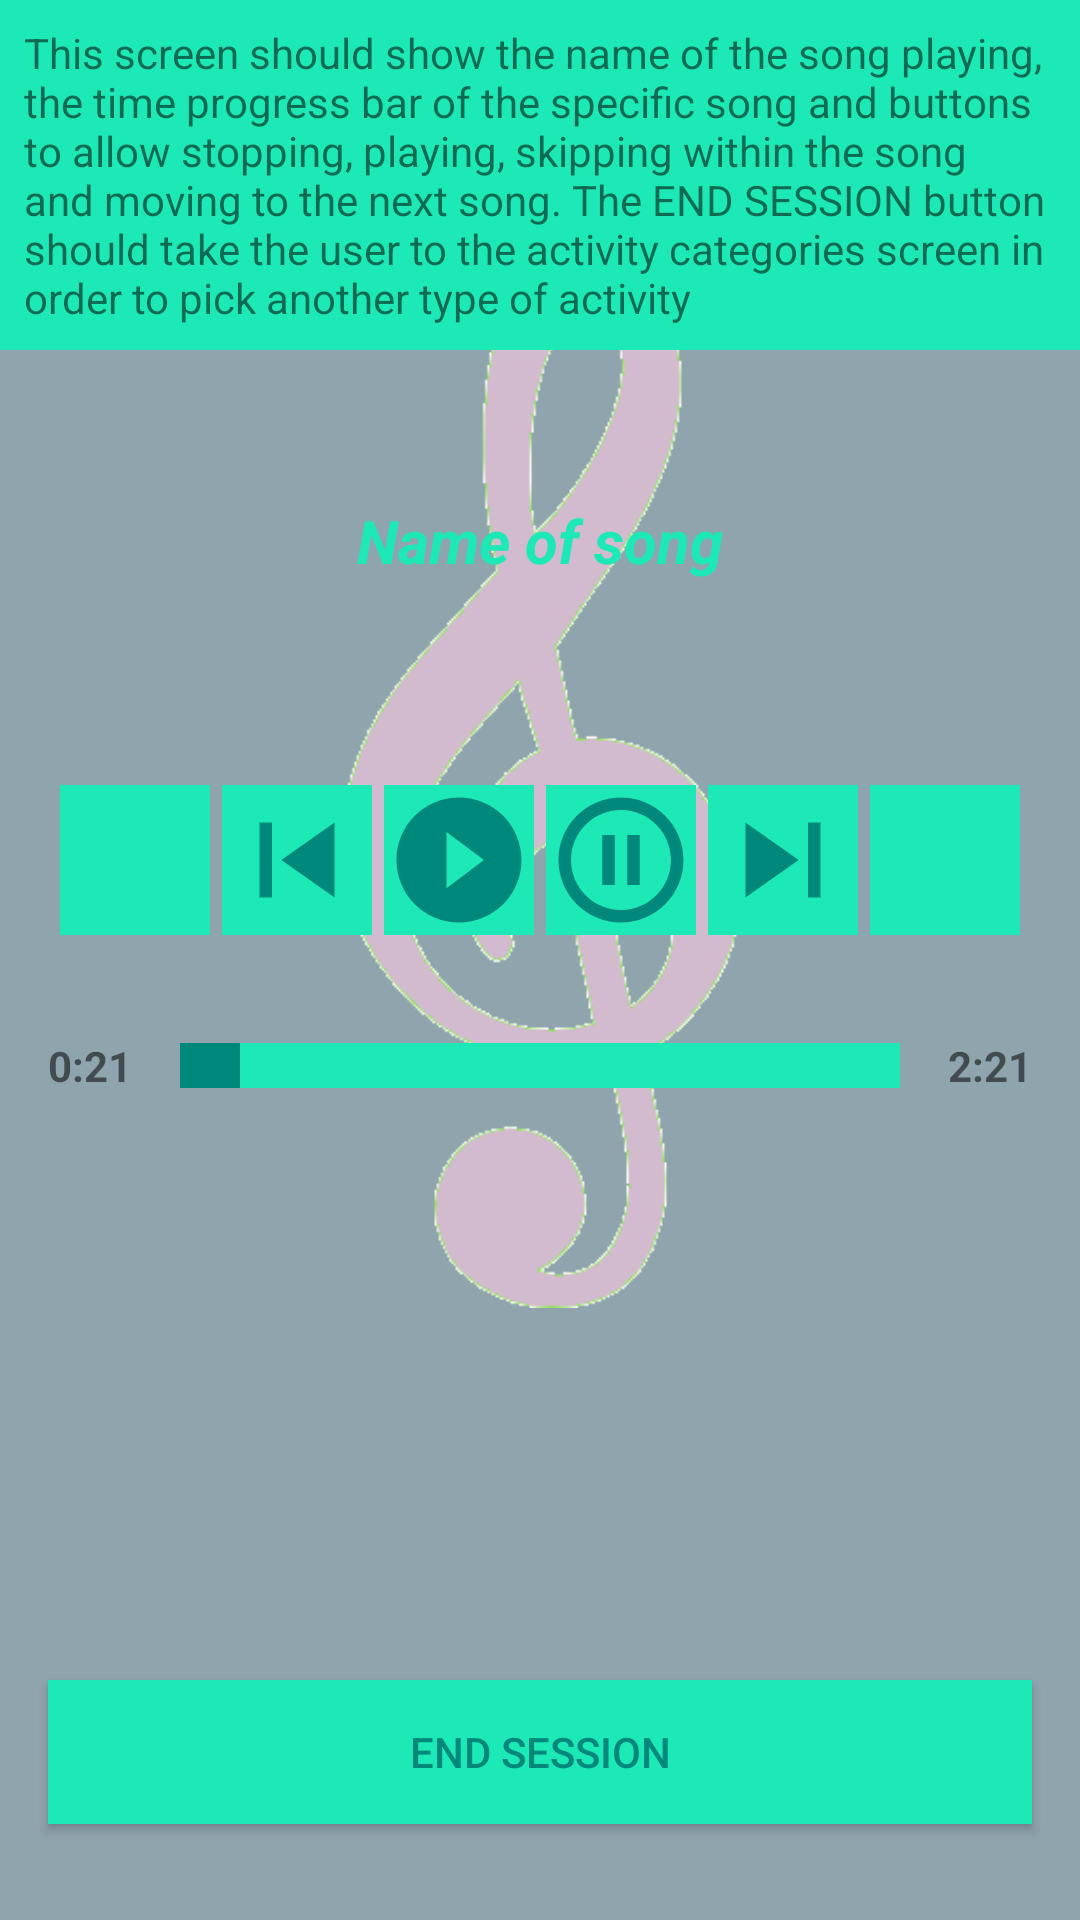

Named icons in this screenshot (1080w x 1920h) and their bounding boxes, (x1=x1, y1=y1, x2=x2, y2=y2):
pause circle: (x1=546, y1=785, x2=696, y2=935)
play circle: (x1=384, y1=785, x2=534, y2=935)
skip next: (x1=708, y1=785, x2=858, y2=935)
skip previous: (x1=222, y1=785, x2=372, y2=935)
